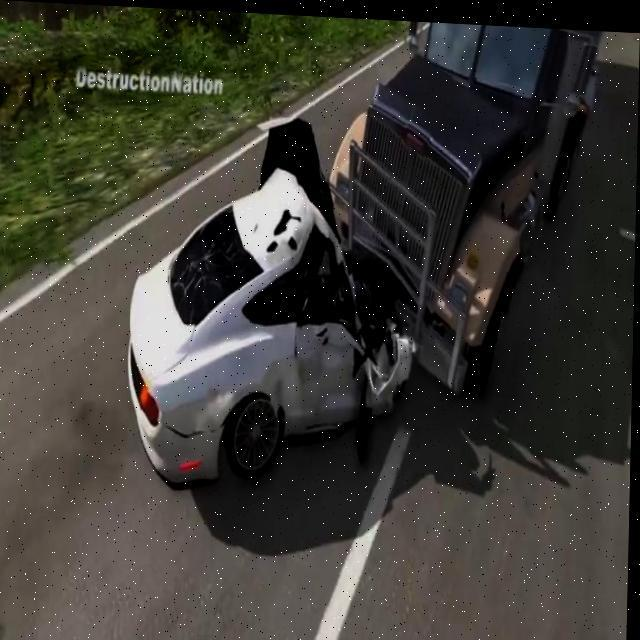multiple_accident: (130, 20, 632, 506)
